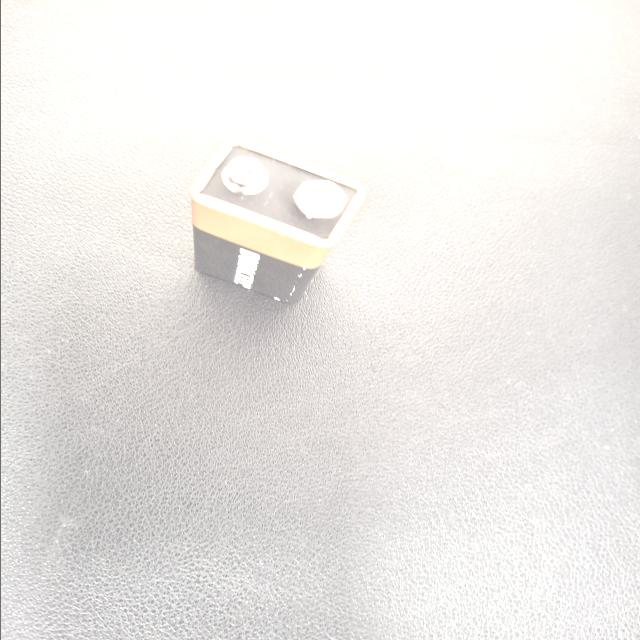9V: (0, 200, 197, 343)
